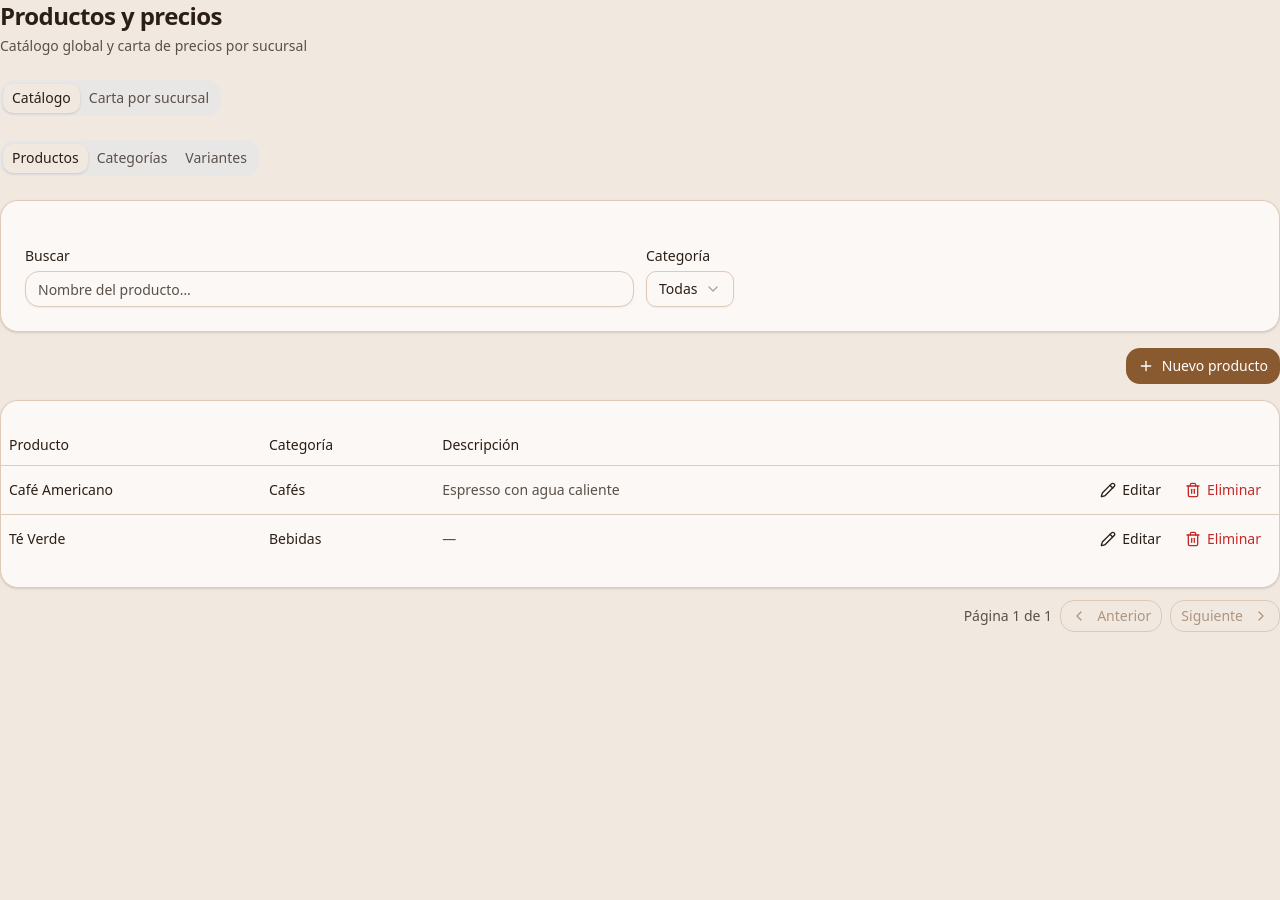
Scenario: Catálogo de productos › crea un producto y lo muestra en el catálogo
The width and height of the screenshot is (1280, 900).
Expected: the text "Café Americano" is shown, [9, 480, 113, 498]
Step 1. Click the button "Nuevo producto" → (1203, 366), box [1126, 348, 1279, 384]
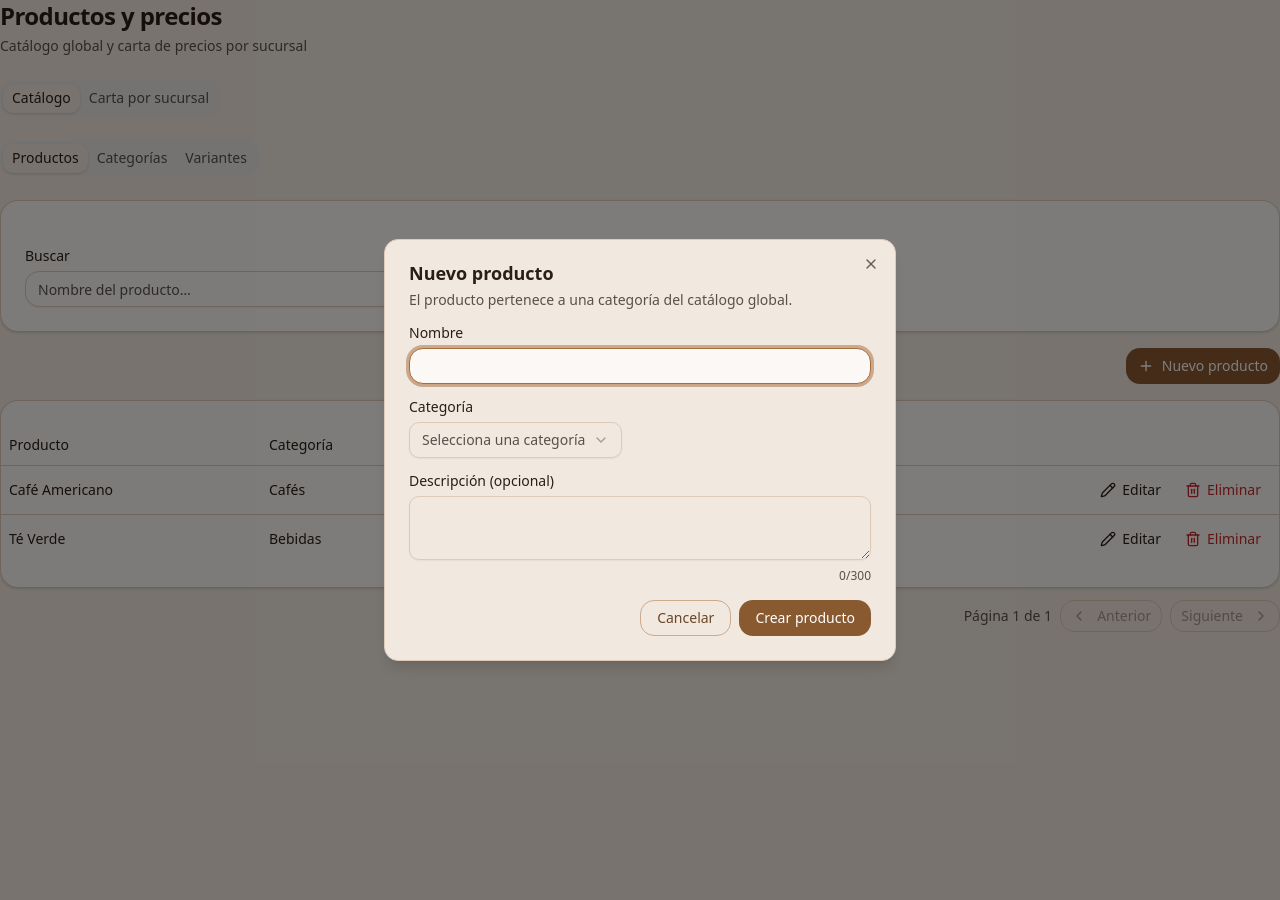
Step 2. Type "Chocolate" into the field labelled "Nombre" → (640, 366), box [409, 348, 871, 384]
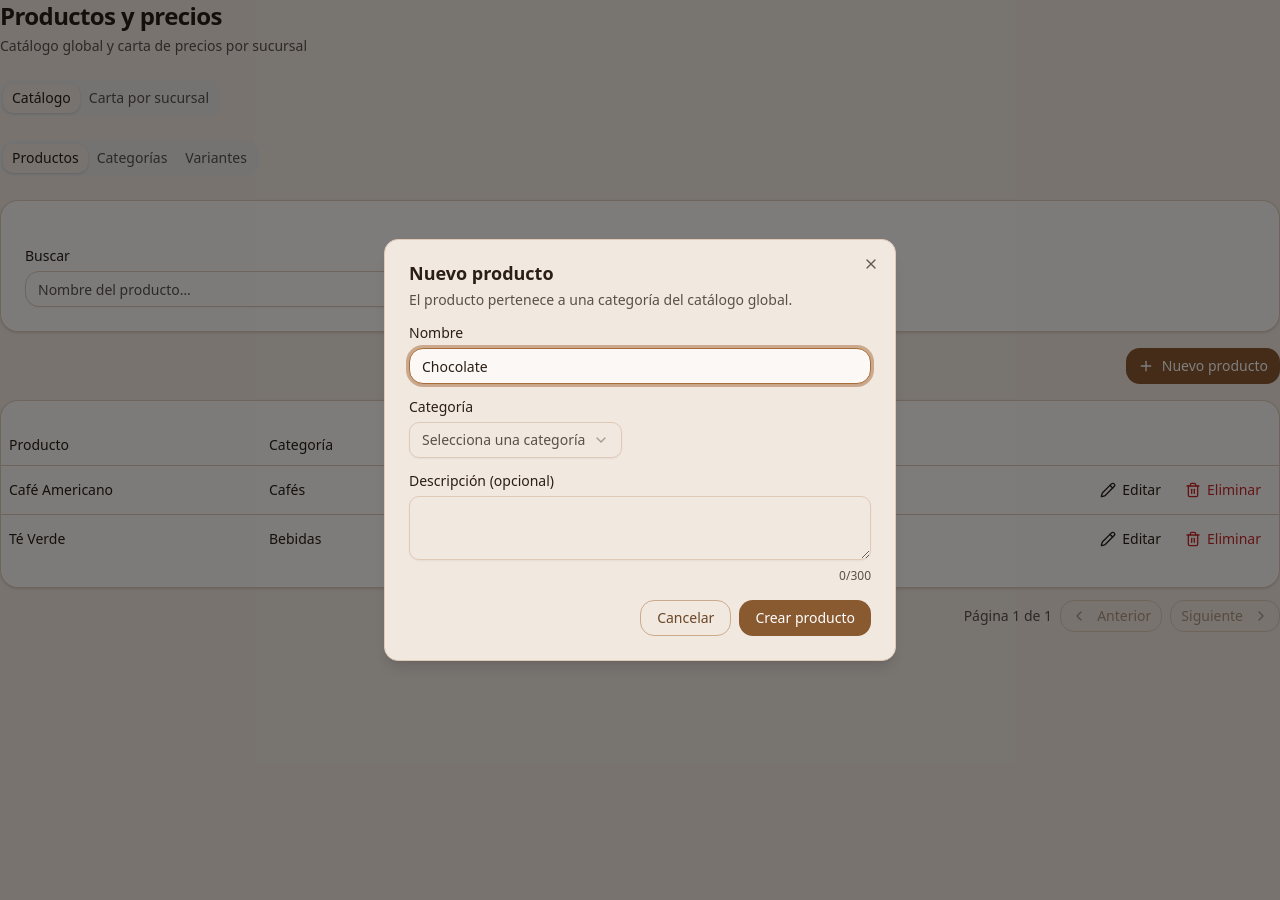
Step 3. Click the dropdown labelled "categoría" → (516, 440), box [409, 422, 622, 458]
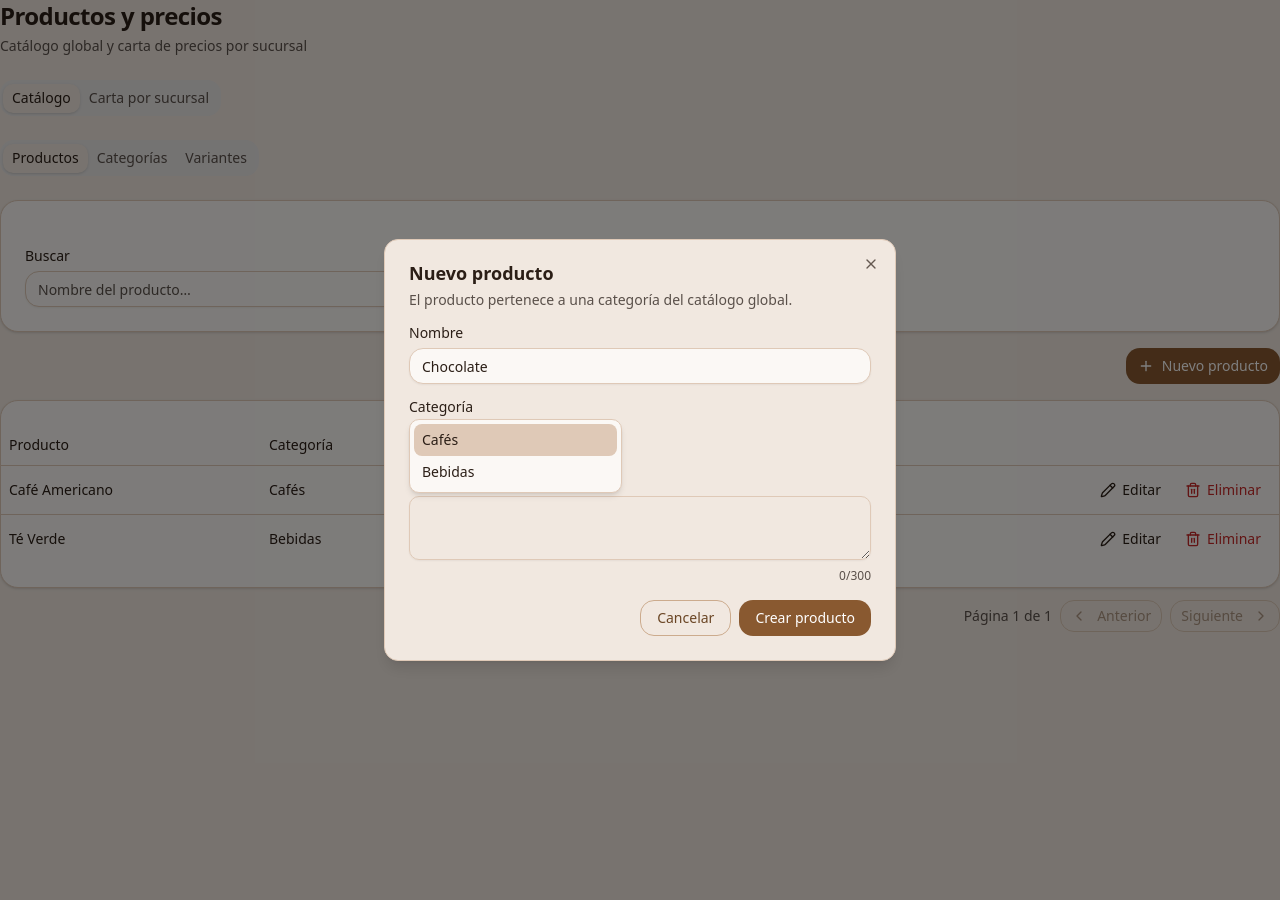
Step 4. Click the option "Bebidas" → (448, 472), box [422, 462, 474, 481]
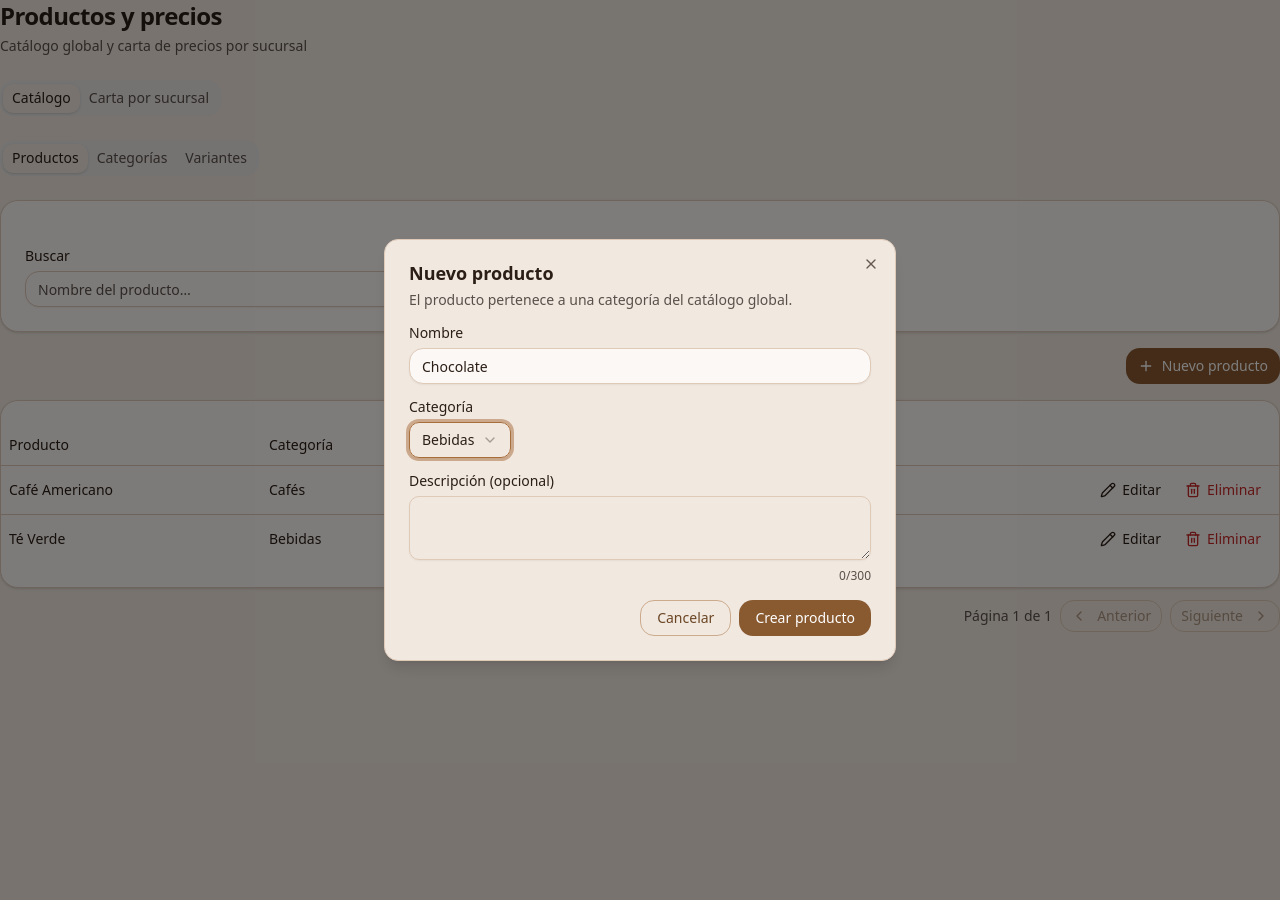
Step 5. Click the button "Crear producto" → (805, 618), box [739, 600, 871, 636]
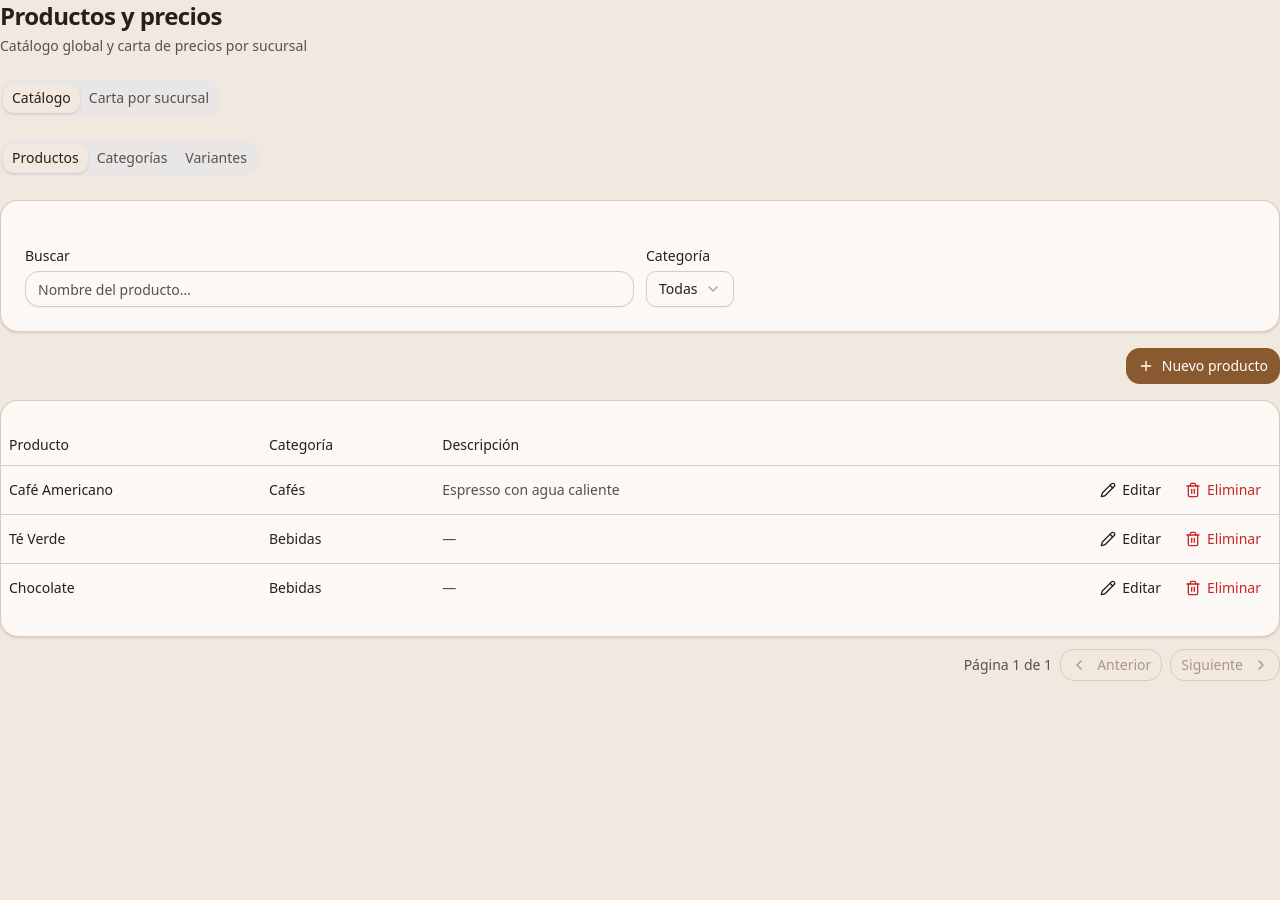
Now the text "Chocolate" is shown, box [9, 578, 75, 596]
